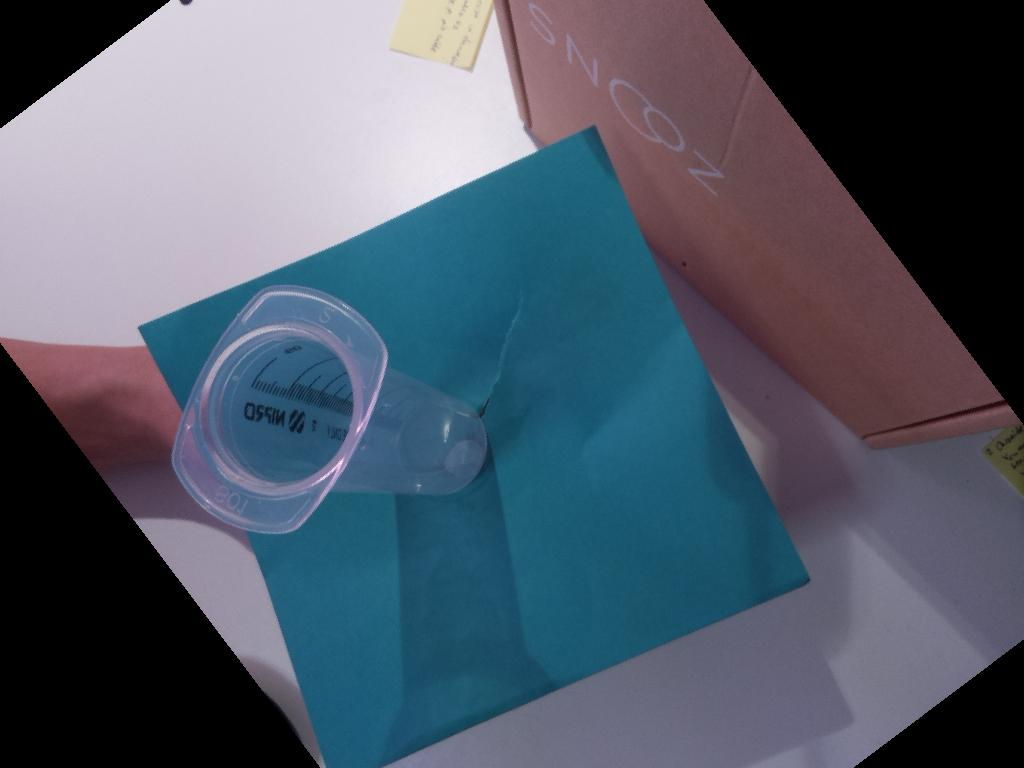clean: (169, 282, 387, 536)
